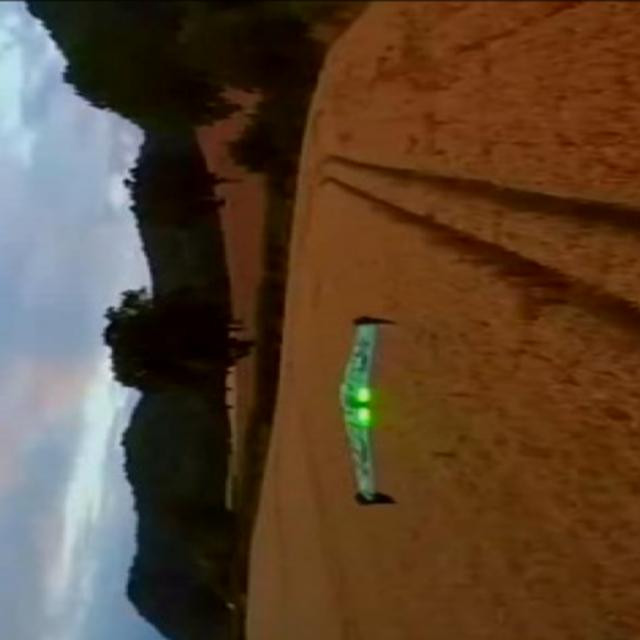plane: (336, 314, 399, 508)
